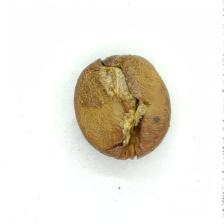NG: (93, 61, 153, 150)
